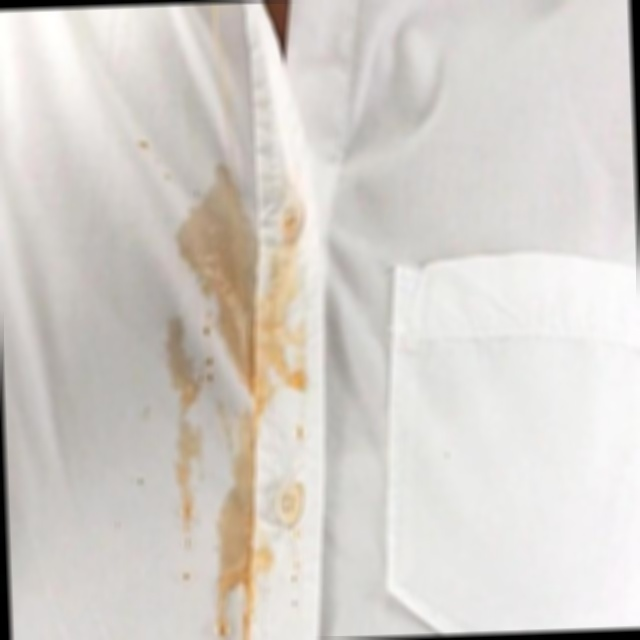coffee: (188, 172, 291, 376), (223, 421, 269, 621), (170, 419, 208, 537), (164, 316, 202, 410)
